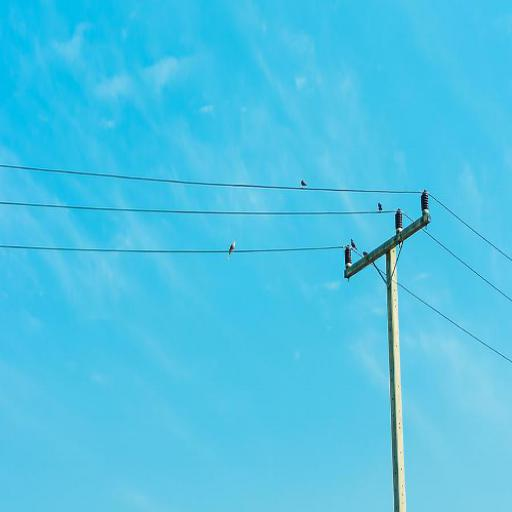mono_7: (335, 183, 438, 511)
